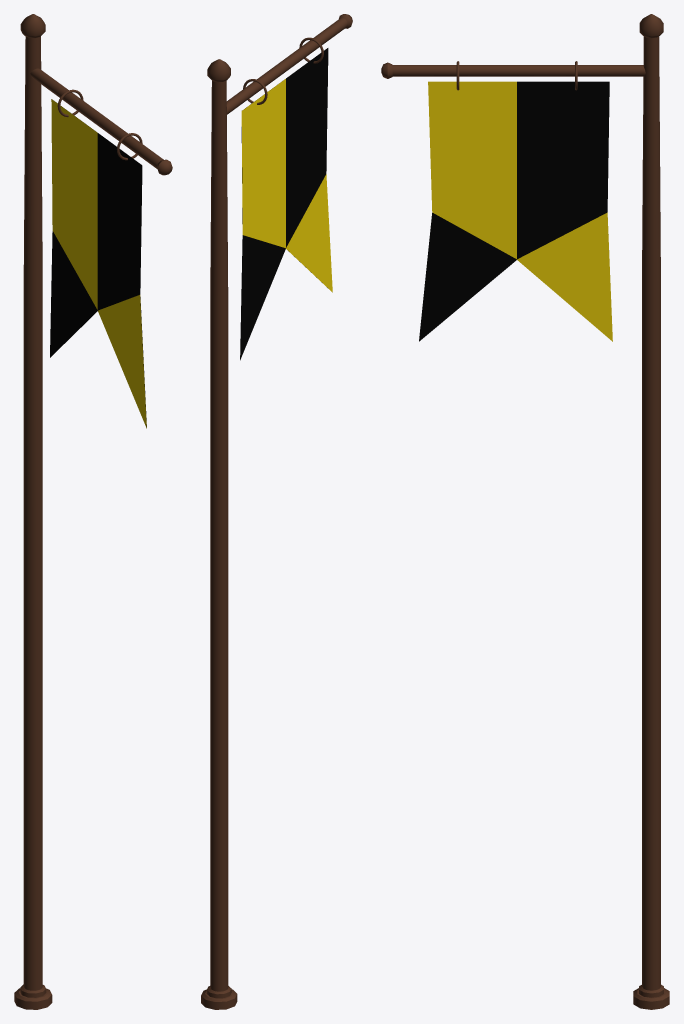
The model's file is Flag_black_yellow.obj.
3 views of the same model, side by side, from view 1: azimuth 30°, elevation 25°; view 2: azimuth 150°, elevation 25°; view 3: azimuth 270°, elevation 25° (orthographic). The views are drawn at different scales.
Parts seen in each view (by area): view 1: Tube001, Box004, Box003, Box002, Tube002, ChamferCyl002, ChamferCyl003; view 2: Tube001, Box004, Box003, Box002, Tube002, ChamferCyl002, ChamferCyl003; view 3: Box004, Tube001, Box002, Box001, Tube002.
Part boxes in pixels (x1,y1,x2,y2): Tube001: (23, 36, 42, 990); Box004: (51, 99, 146, 428); Box003: (50, 102, 142, 357); Box002: (50, 176, 142, 357); Tube002: (30, 68, 163, 168); ChamferCyl002: (14, 988, 52, 1009); ChamferCyl003: (20, 14, 45, 37); Tube001: (210, 80, 228, 991); Box004: (241, 79, 332, 292); Box003: (241, 48, 328, 247); Box002: (240, 235, 285, 360); Tube002: (226, 18, 347, 114); ChamferCyl002: (201, 989, 237, 1009); ChamferCyl003: (207, 59, 230, 82); Box004: (428, 81, 612, 341); Tube001: (642, 36, 660, 990); Box002: (517, 81, 609, 259); Box001: (419, 212, 516, 341); Tube002: (392, 65, 645, 76).
Bounding box in the file's own units: 2.58 × 73.53 × 19.44.
